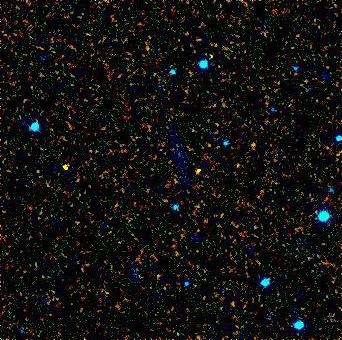star: (188, 159, 218, 189)
